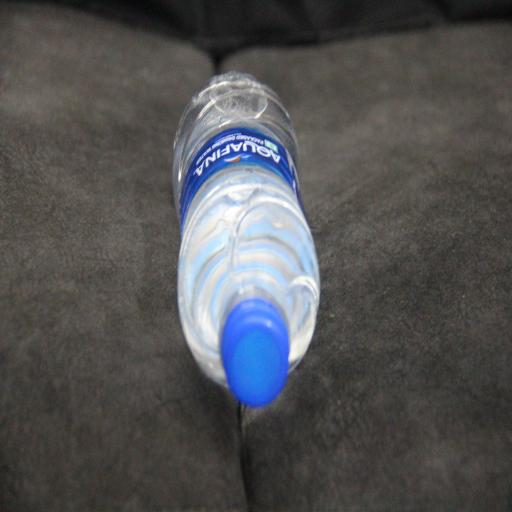Aquafina: (156, 56, 334, 430)
